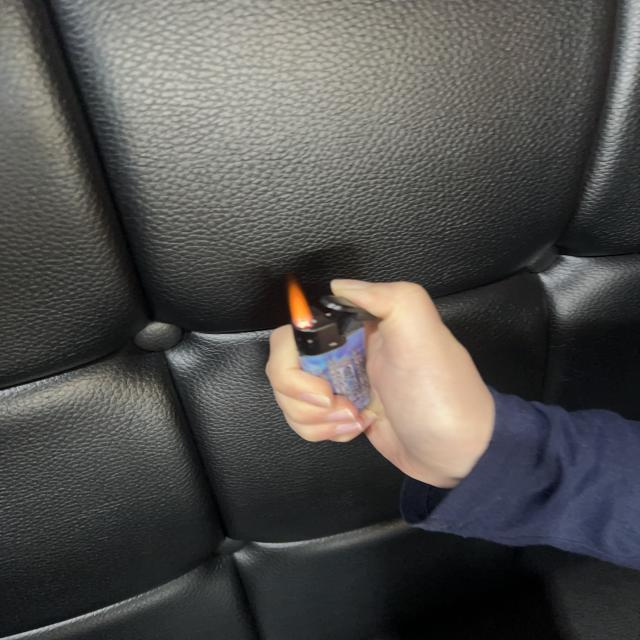fire: (286, 281, 318, 327)
